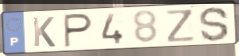4: (100, 12, 126, 46)
8: (131, 9, 163, 46)
K: (31, 16, 57, 48)
P: (63, 12, 95, 49)
S: (198, 6, 231, 43)
Z: (164, 7, 198, 44)
